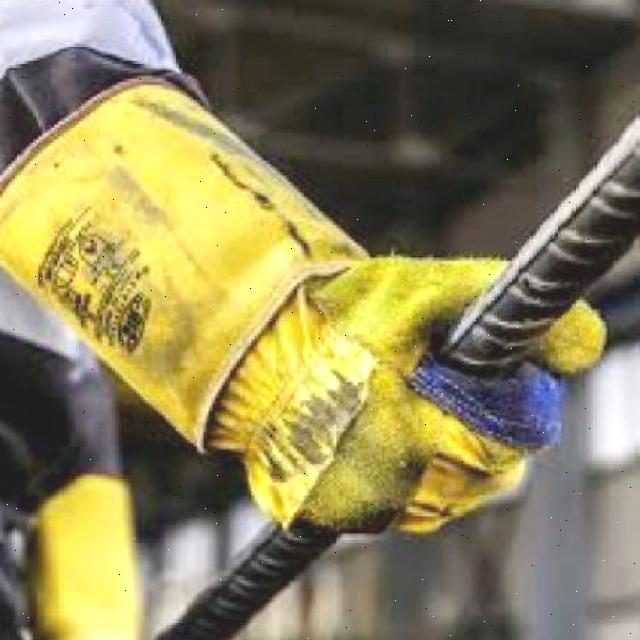Gloves: (0, 81, 561, 533), (530, 302, 605, 373)
